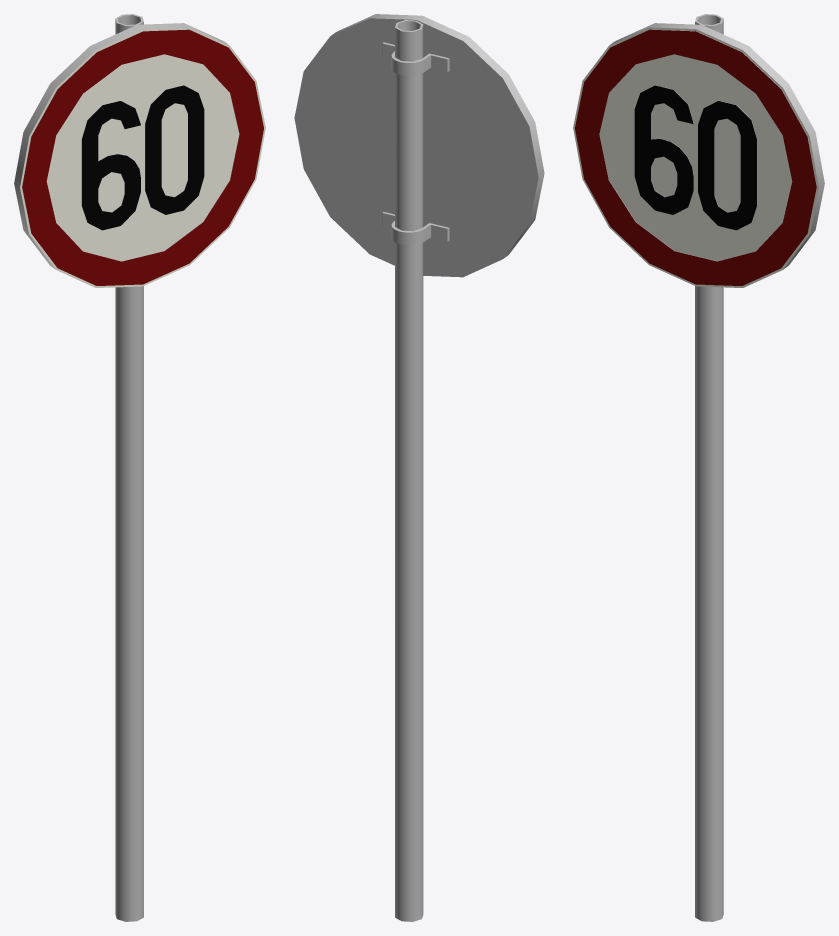
The picture shows the model from 3 angles, left to right: view 1: azimuth 30°, elevation 25°; view 2: azimuth 150°, elevation 25°; view 3: azimuth 330°, elevation 25°; orthographic projection.
Parts seen in each view (by area): view 1: 60_MTL0.001, 60_DEFAULT_MTL.001, 60_MTL1.001, 60_MTL2.001; view 2: 60_DEFAULT_MTL.001; view 3: 60_MTL0.001, 60_DEFAULT_MTL.001, 60_MTL1.001, 60_MTL2.001.
Part boxes in pixels (<box>): 60_MTL0.001: <box>20,27,265,287</box>; 60_DEFAULT_MTL.001: <box>14,14,239,921</box>; 60_MTL1.001: <box>22,29,263,285</box>; 60_MTL2.001: <box>82,85,204,230</box>; 60_DEFAULT_MTL.001: <box>294,14,544,921</box>; 60_MTL0.001: <box>573,27,818,287</box>; 60_DEFAULT_MTL.001: <box>599,14,824,921</box>; 60_MTL1.001: <box>575,29,816,285</box>; 60_MTL2.001: <box>634,85,756,230</box>.
Bounding box in the file's own units: 603 × 2102 × 95.5.
